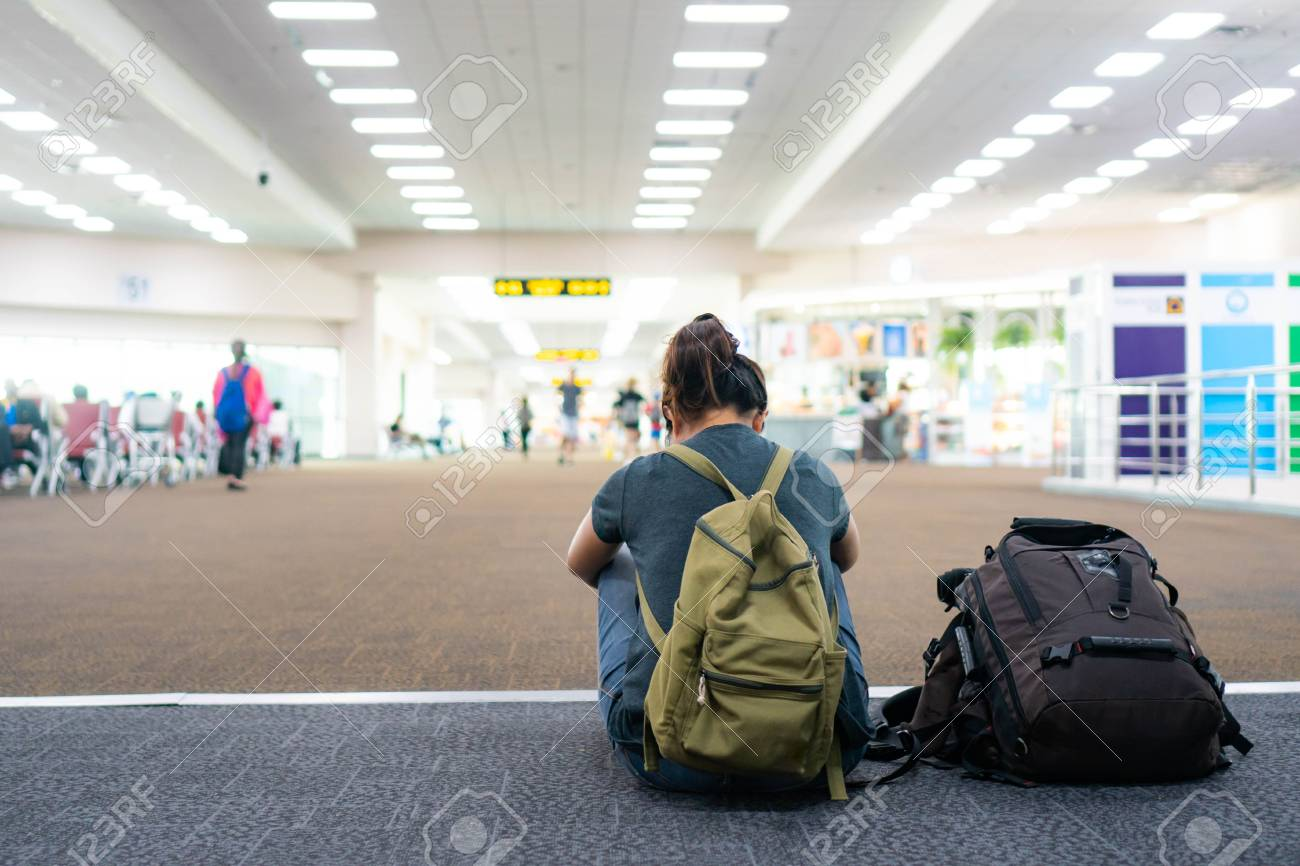backpack: (914, 510, 1256, 797), (643, 442, 844, 785)
people: (565, 305, 886, 808)
